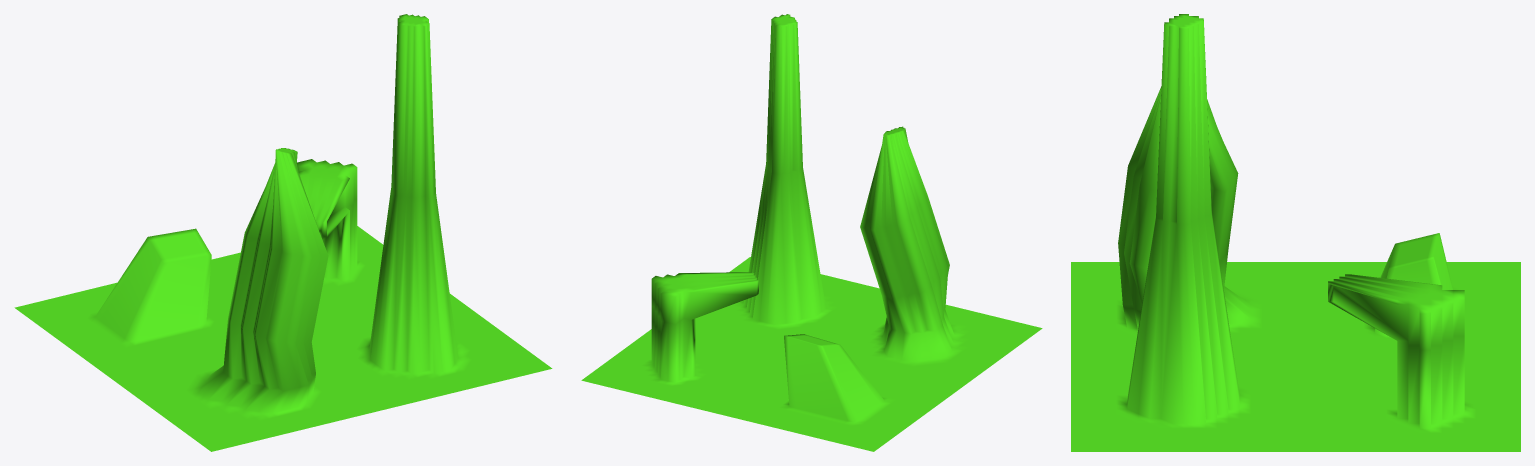
The model's file is greenland.glb.
The picture shows the model from 3 angles, left to right: view 1: azimuth 30°, elevation 25°; view 2: azimuth 150°, elevation 25°; view 3: azimuth 270°, elevation 25°; orthographic projection. The views are drawn at different scales.
Parts seen in each view (by area): view 1: Grid; view 2: Grid; view 3: Grid.
Part boxes in pixels (left/top/right/bottom): Grid: left=14, top=14, right=552, bottom=451; Grid: left=581, top=14, right=1042, bottom=451; Grid: left=1071, top=14, right=1520, bottom=451.
Bounding box in the file's own units: 8 × 7.47 × 8.
